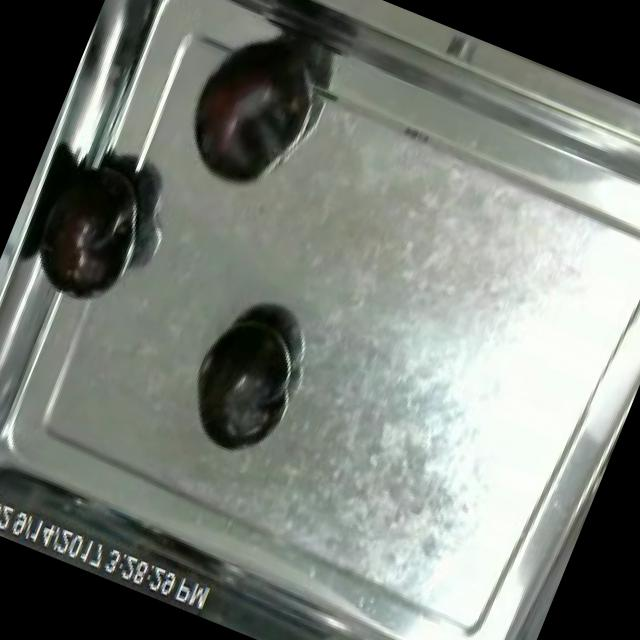Fruit: (166, 24, 330, 208), (22, 140, 167, 318), (168, 294, 314, 466)
